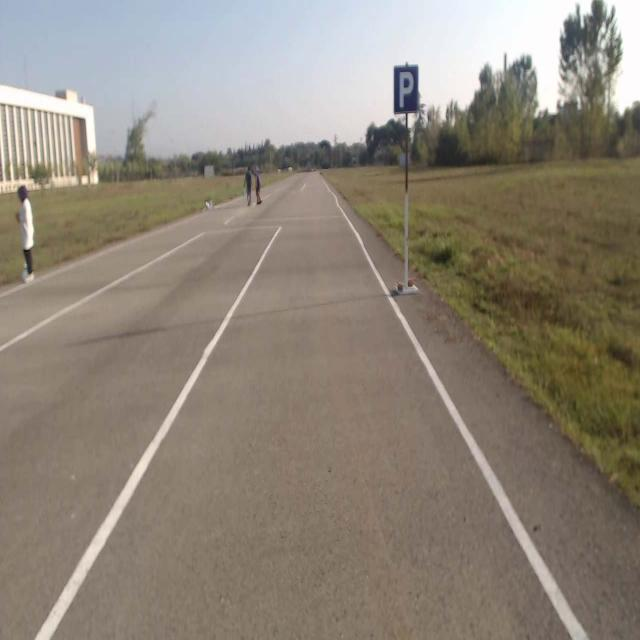park: (394, 66, 418, 114)
